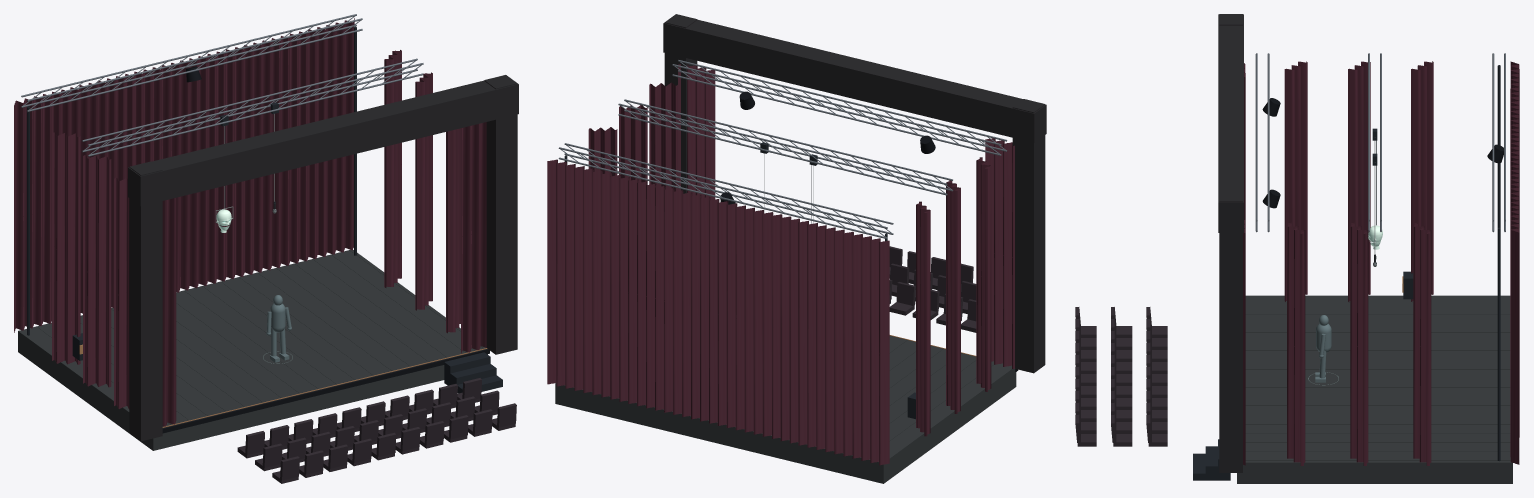
The model's file is ghostlight-stage.glb.
3 views of the same model, side by side, from view 1: azimuth 30°, elevation 25°; view 2: azimuth 150°, elevation 25°; view 3: azimuth 270°, elevation 25° (orthographic). The views are drawn at different scales.
Parts seen in each view (by area): view 1: object 26, object 1, object 25, object 23, object 24, object 29, object 30, object 31, object 28, object 33, object 27, object 34 (+14 smaller); view 2: object 26, object 25, object 1, object 23, object 27, object 28, object 31, object 30, object 29, object 32, object 33, object 24 (+13 smaller); view 3: object 1, object 24, object 25, object 33, object 34, object 32, object 28, object 30, object 26, object 29, object 144, object 31 (+4 smaller).
Part boxes in pixels (x1=…): object 26: x1=14, y1=18, x2=354, y2=332; object 1: x1=18, y1=250, x2=487, y2=450; object 25: x1=128, y1=80, x2=518, y2=206; object 23: x1=129, y1=161, x2=162, y2=441; object 24: x1=484, y1=75, x2=517, y2=354; object 29: x1=83, y1=155, x2=111, y2=387; object 30: x1=52, y1=132, x2=80, y2=364; object 31: x1=461, y1=122, x2=486, y2=353; object 28: x1=114, y1=177, x2=129, y2=409; object 33: x1=415, y1=72, x2=432, y2=310; object 27: x1=162, y1=198, x2=176, y2=426; object 34: x1=384, y1=50, x2=401, y2=287; object 26: x1=547, y1=159, x2=889, y2=465; object 25: x1=663, y1=19, x2=1046, y2=142; object 1: x1=555, y1=336, x2=1016, y2=483; object 23: x1=1012, y1=99, x2=1045, y2=373; object 27: x1=985, y1=138, x2=1014, y2=368; object 28: x1=976, y1=157, x2=991, y2=391; object 31: x1=678, y1=64, x2=715, y2=200; object 30: x1=916, y1=201, x2=930, y2=436; object 29: x1=946, y1=180, x2=960, y2=413; object 32: x1=649, y1=82, x2=677, y2=191; object 33: x1=619, y1=105, x2=647, y2=182; object 24: x1=664, y1=14, x2=697, y2=193; object 1: x1=1237, y1=296, x2=1512, y2=483; object 24: x1=1219, y1=190, x2=1242, y2=472; object 25: x1=1218, y1=14, x2=1243, y2=232; object 33: x1=1350, y1=222, x2=1368, y2=465; object 34: x1=1413, y1=222, x2=1431, y2=465; object 32: x1=1287, y1=222, x2=1305, y2=465; object 28: x1=1284, y1=61, x2=1307, y2=301; object 30: x1=1411, y1=61, x2=1433, y2=301; object 26: x1=1510, y1=61, x2=1519, y2=464; object 29: x1=1348, y1=61, x2=1370, y2=302; object 144: x1=1497, y1=227, x2=1500, y2=461; object 31: x1=1243, y1=219, x2=1245, y2=465.
Size of what is drawn, in the model's own units: 11.3 by 8.2 by 11.27.
